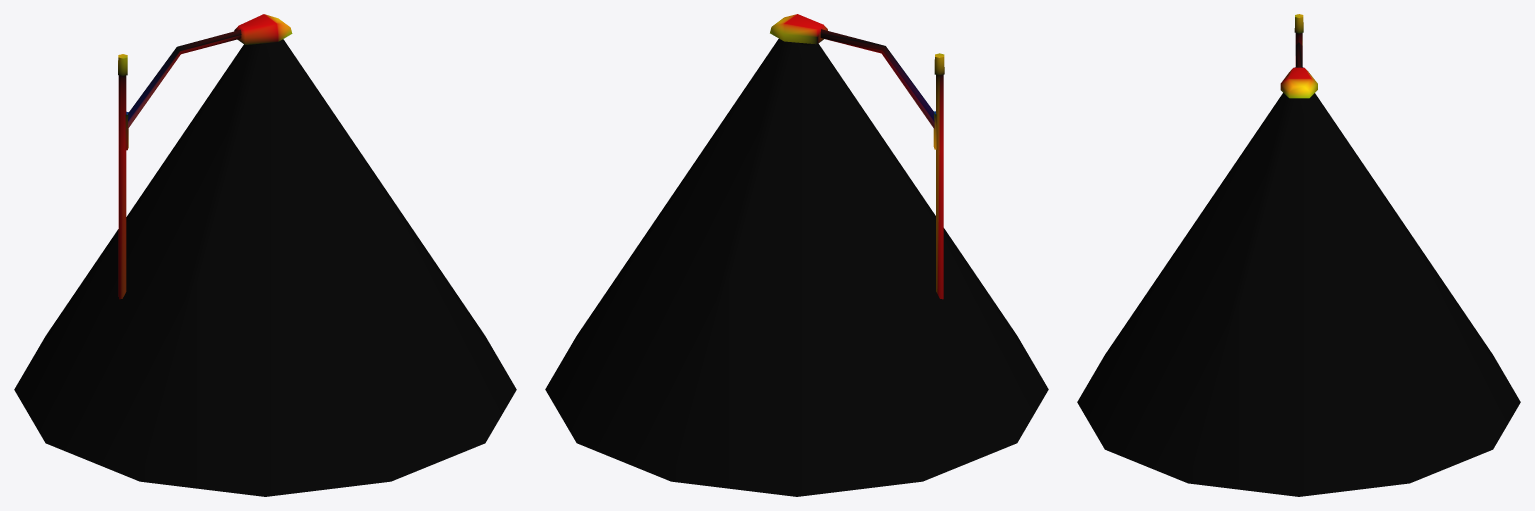
Rendered from Light_Post_Single_W_LightCone.fbx.
The picture shows the model from 3 angles, left to right: view 1: azimuth 30°, elevation 25°; view 2: azimuth 150°, elevation 25°; view 3: azimuth 270°, elevation 25°; orthographic projection. The views are drawn at different scales.
Parts seen in each view (by area): view 1: Light_Post_Single_W_LightCone; view 2: Light_Post_Single_W_LightCone; view 3: Light_Post_Single_W_LightCone.
Part boxes in pixels (bbox=[...]): Light_Post_Single_W_LightCone: bbox=[14, 14, 516, 496]; Light_Post_Single_W_LightCone: bbox=[545, 14, 1048, 496]; Light_Post_Single_W_LightCone: bbox=[1077, 14, 1520, 496].
Size of the model in its own units: 10.34 by 8.49 by 10.23.
